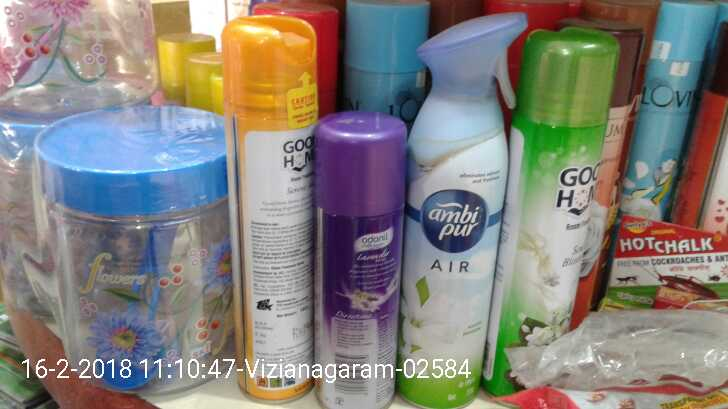ambipure: (394, 5, 523, 402)
